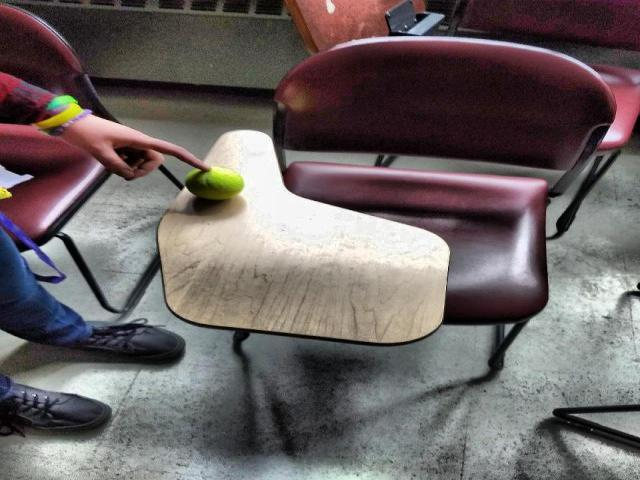tennis-ball: (185, 166, 245, 199)
